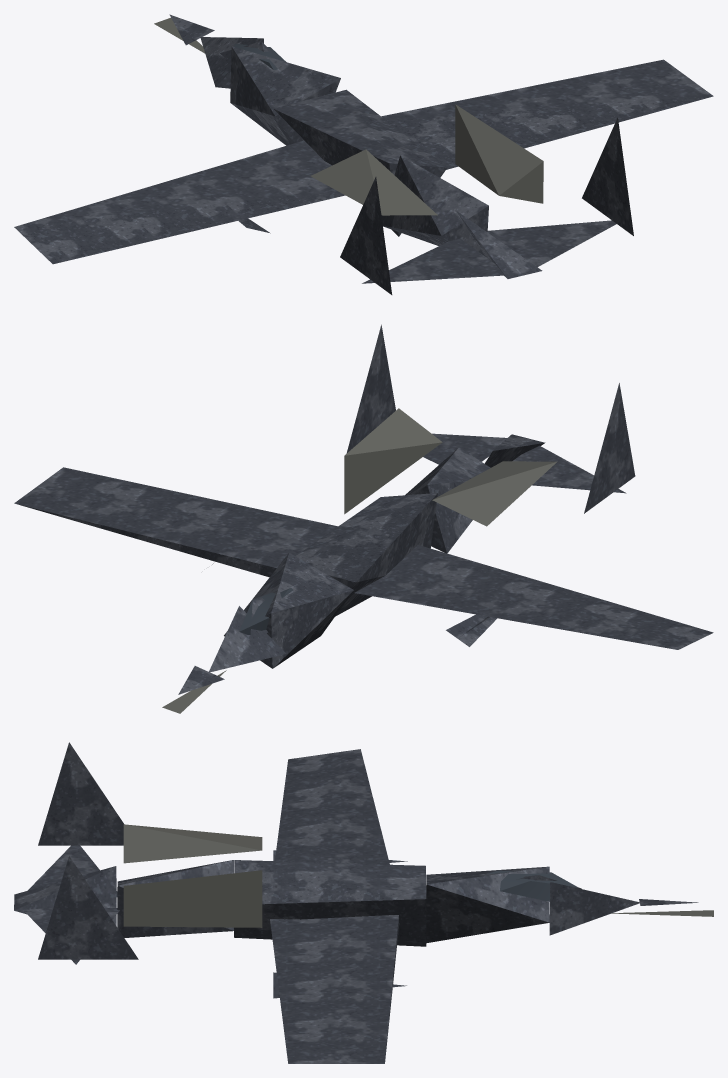
The model's file is air_e1_us_cas_LOD2.glb.
3 renders of one model, top to bottom at view 1: azimuth 30°, elevation 25°; view 2: azimuth 150°, elevation 25°; view 3: azimuth 270°, elevation 25°, orthographic. The views are drawn at different scales.
Visible parts, largest first — view 1: air_e1_us_cas_LOD2_body, air_e1_us_cas_LOD2_gun; view 2: air_e1_us_cas_LOD2_body, air_e1_us_cas_LOD2_gun, air_e1_us_cas_LOD2_glass; view 3: air_e1_us_cas_LOD2_body, air_e1_us_cas_LOD2_gun, air_e1_us_cas_LOD2_glass.
Boxes of the visible parts, <box> form: air_e1_us_cas_LOD2_body: <box>14,14,713,294</box>; air_e1_us_cas_LOD2_gun: <box>154,17,543,215</box>; air_e1_us_cas_LOD2_body: <box>14,324,713,694</box>; air_e1_us_cas_LOD2_gun: <box>162,408,557,713</box>; air_e1_us_cas_LOD2_glass: <box>239,588,293,634</box>; air_e1_us_cas_LOD2_body: <box>14,742,698,1063</box>; air_e1_us_cas_LOD2_gun: <box>123,824,713,927</box>; air_e1_us_cas_LOD2_glass: <box>486,870,577,901</box>.
Bounding box in the file's own units: 17.53 × 3.82 × 16.64.
Materials: 3 (1 with a texture image).
